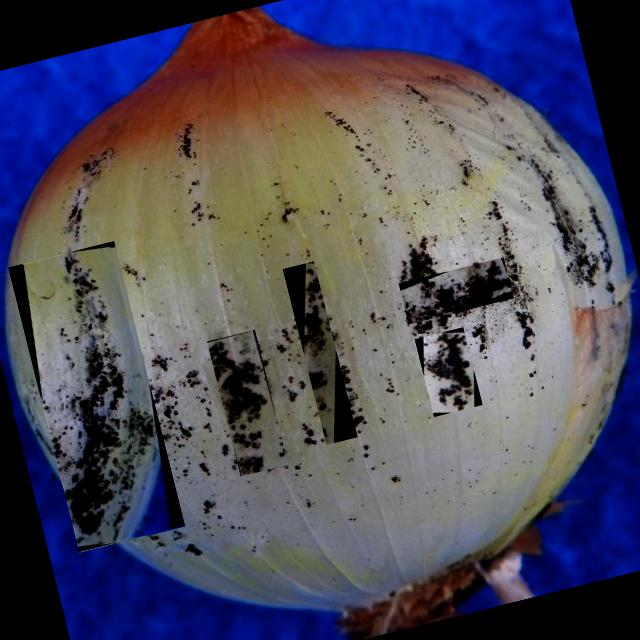mould: (65, 252, 157, 544), (282, 261, 358, 444), (207, 329, 288, 476), (398, 257, 514, 324), (414, 326, 482, 416)
